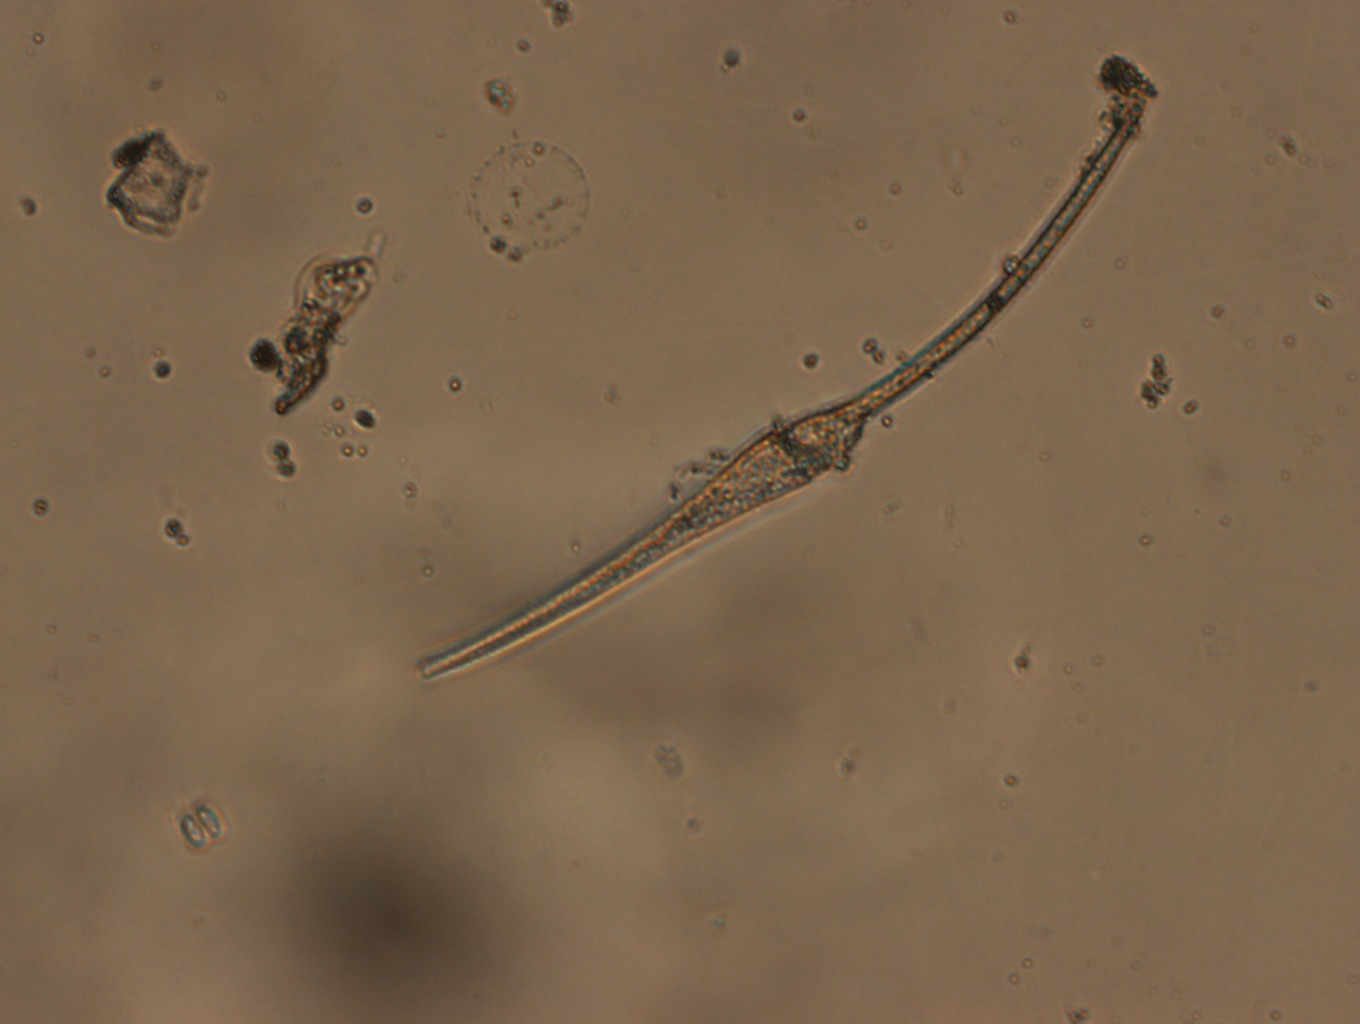ceratium fusus: (418, 98, 1153, 678)
